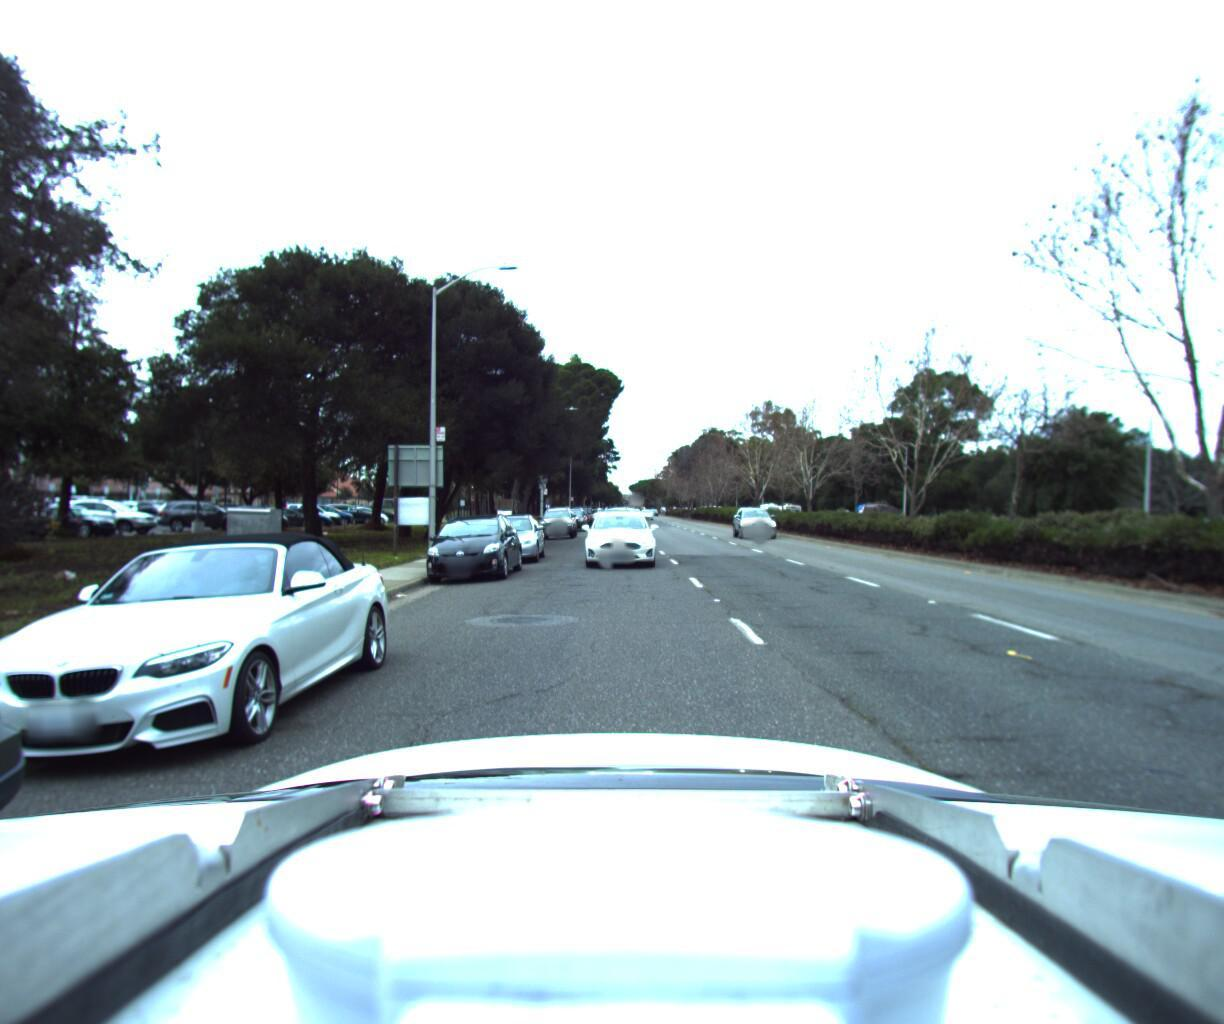car: (0, 524, 399, 801), (413, 507, 522, 580), (582, 505, 655, 567), (470, 505, 542, 562), (729, 500, 778, 535), (536, 497, 575, 534), (555, 498, 586, 526)
other_vehicle: (851, 494, 898, 526)
